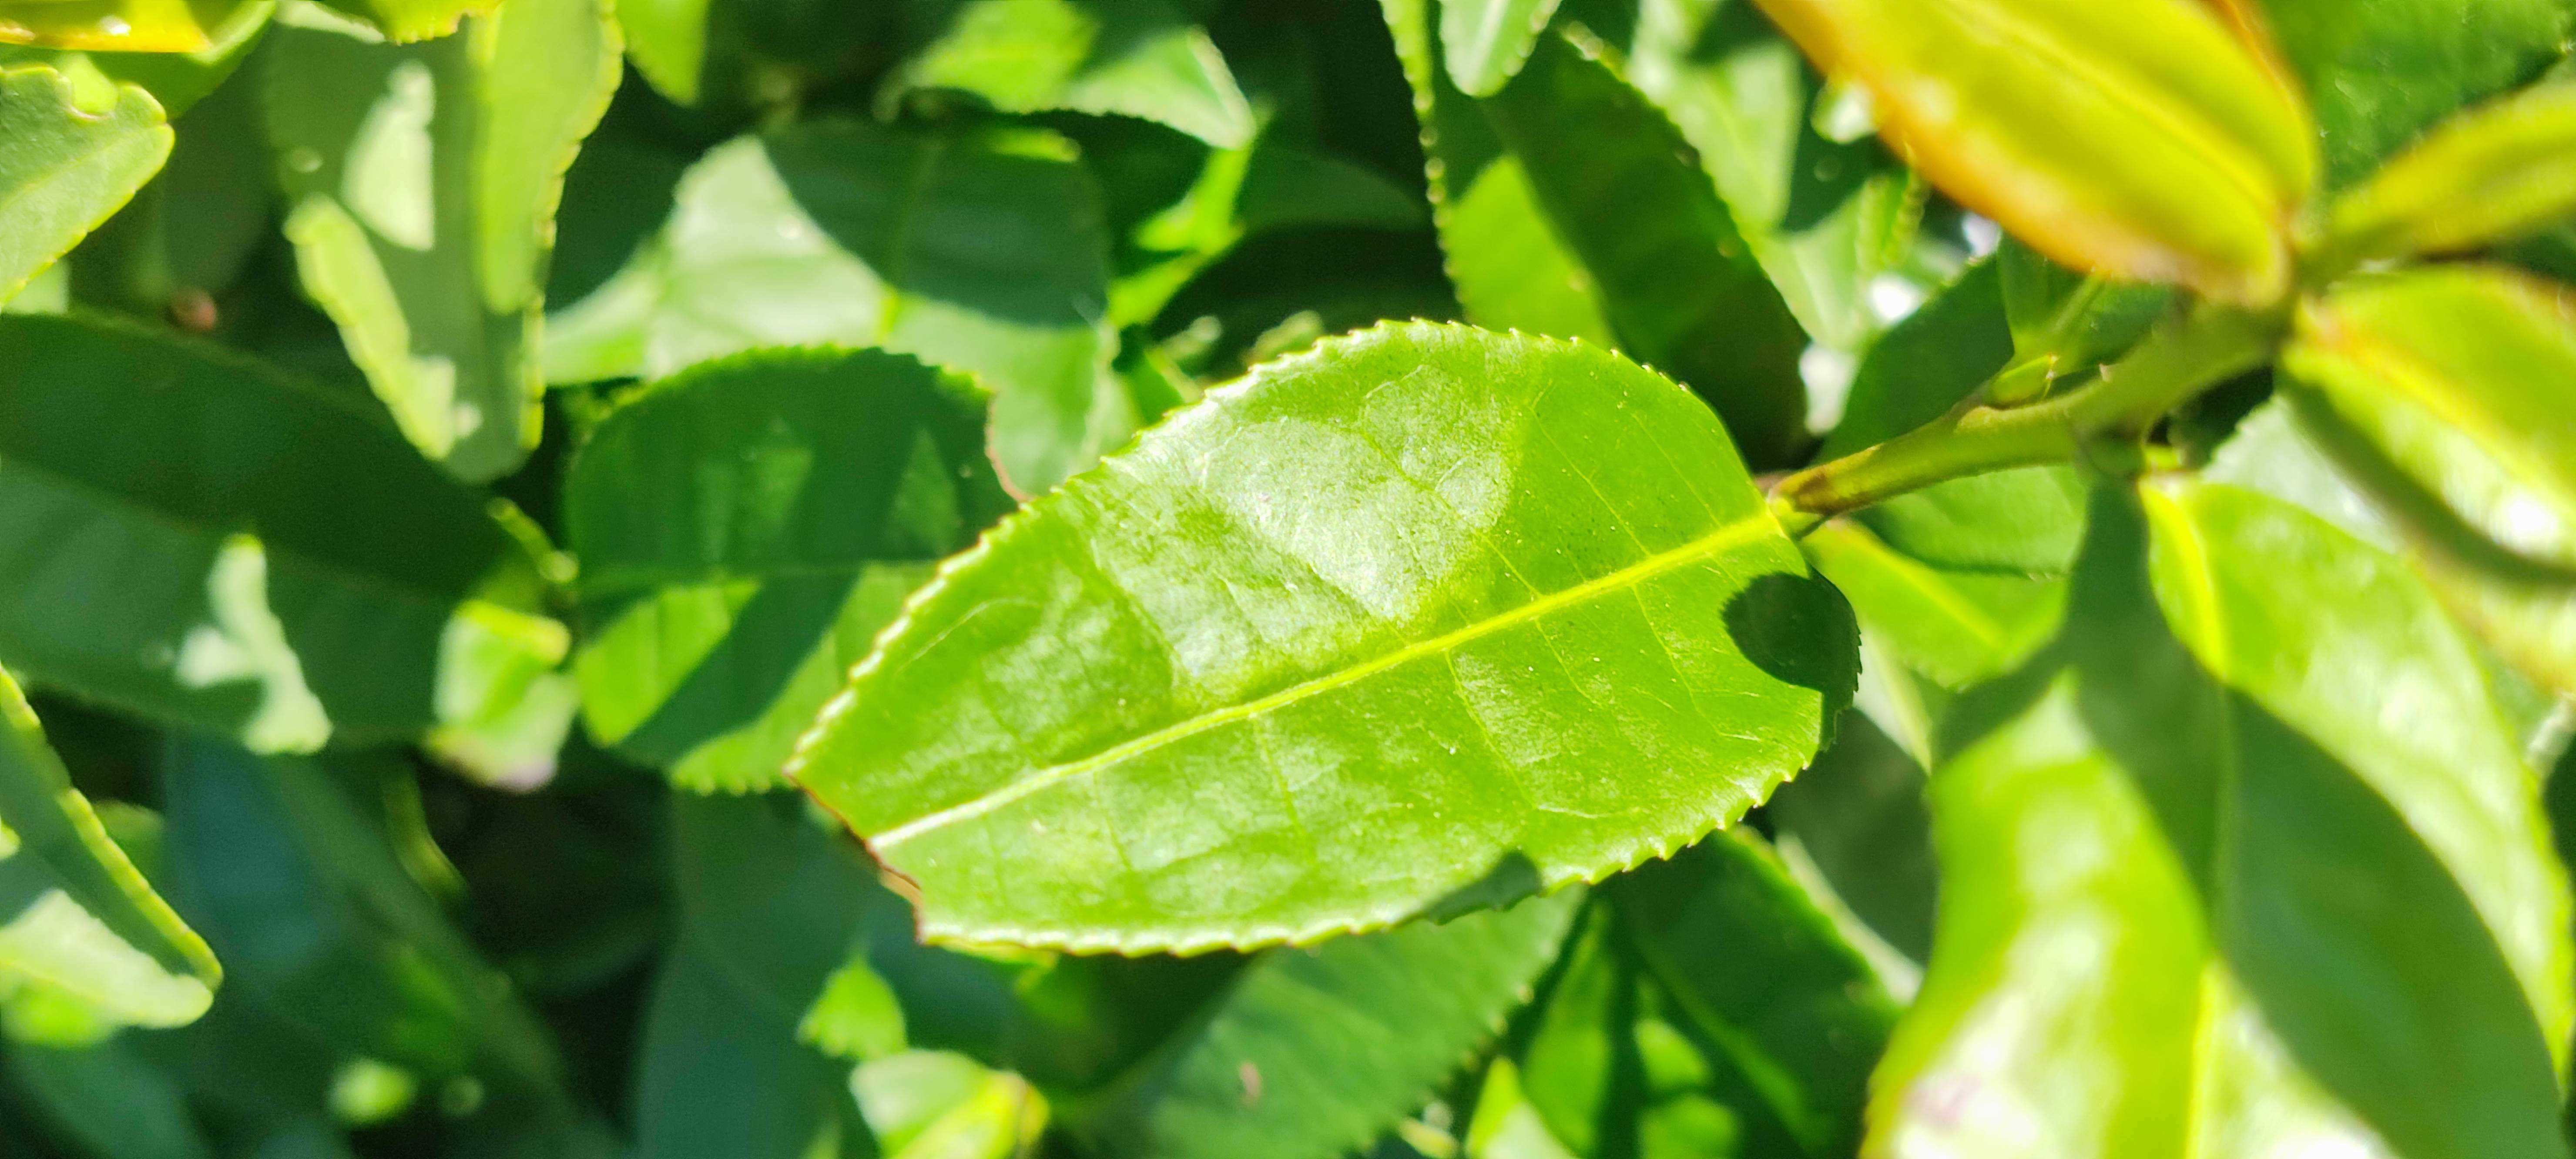chihuo_low: (785, 310, 1868, 965), (555, 341, 1037, 799)
tanju_low: (1755, 2, 2325, 305), (2259, 258, 2576, 694)
